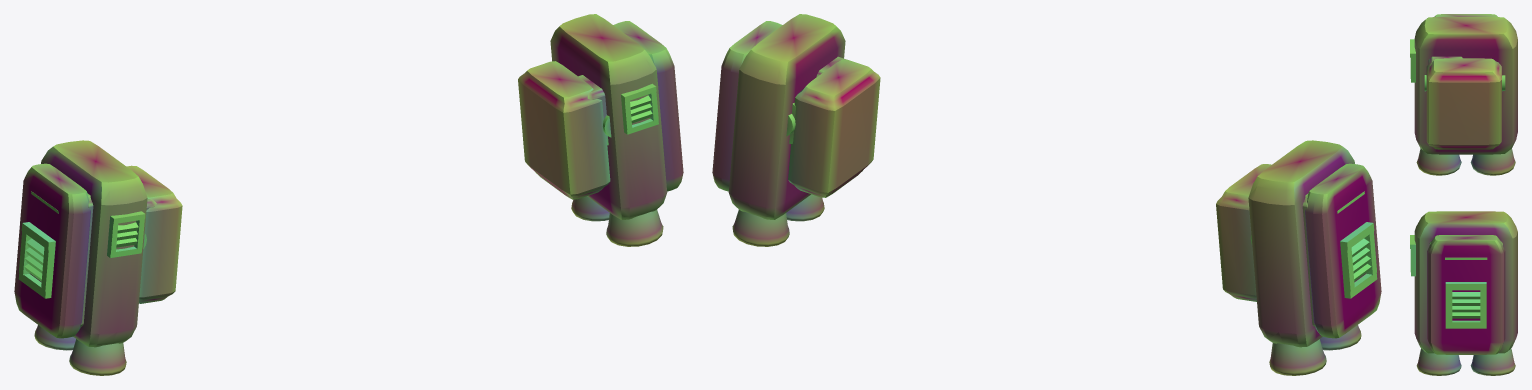
The model's file is llm_gen_leg_thrusters_092_02dea1.glb.
3 renders of one model, left to right at view 1: azimuth 30°, elevation 25°; view 2: azimuth 150°, elevation 25°; view 3: azimuth 270°, elevation 25°, orthographic. The views are drawn at different scales.
Visible parts, largest first — view 1: greave_pylon_0_adapter_dark_r, greave_pylon_0_adapter_dark_l, adapter_calf_clamp_r, lateral_binder_shroud_2_cobalt_anodized_l, adapter_calf_clamp_l, lateral_binder_shroud_2_cobalt_anodized_r, ankle_vector_bell_b_7_vernier_bell_vernier_l, adapter_sub_binder_side_vent_3_dark_l, ankle_vector_bell_b_7_vernier_bell_vernier_r, adapter_sub_greave_intake_grille_5_dark_l, adapter_sub_greave_intake_grille_5_dark_r, ankle_vector_bell_a_6_vernier_bell_vernier_r (+2 smaller); view 2: greave_pylon_0_adapter_dark_r, greave_pylon_0_adapter_dark_l, adapter_calf_clamp_r, lateral_binder_shroud_2_cobalt_anodized_l, adapter_calf_clamp_l, lateral_binder_shroud_2_cobalt_anodized_r, ankle_vector_bell_a_6_vernier_bell_vernier_l, adapter_sub_binder_side_vent_3_dark_l, ankle_vector_bell_a_6_vernier_bell_vernier_r, ankle_vector_bell_b_7_vernier_bell_vernier_r, binder_side_vent_3_gold_l, ankle_vector_bell_b_7_vernier_bell_vernier_l; view 3: lateral_binder_shroud_2_cobalt_anodized_r, greave_pylon_0_adapter_dark_l, adapter_calf_clamp_l, greave_pylon_0_adapter_dark_r, adapter_sub_binder_side_vent_3_dark_r, ankle_vector_bell_a_6_vernier_bell_vernier_r, ankle_vector_bell_b_7_vernier_bell_vernier_r, ankle_vector_bell_b_7_vernier_bell_vernier_l, ankle_vector_bell_a_6_vernier_bell_vernier_l, binder_side_vent_3_gold_r, adapter_sub_greave_intake_grille_5_dark_l, adapter_sub_greave_intake_grille_5_dark_r (+4 smaller).
Part boxes in pixels (x1,y1,x2,y2): greave_pylon_0_adapter_dark_r: (550,14,667,219); greave_pylon_0_adapter_dark_l: (41,140,147,347); adapter_calf_clamp_r: (518,61,610,199); lateral_binder_shroud_2_cobalt_anodized_l: (14,163,90,338); adapter_calf_clamp_l: (126,165,182,303); lateral_binder_shroud_2_cobalt_anodized_r: (613,21,683,191); ankle_vector_bell_b_7_vernier_bell_vernier_l: (69,339,126,375); adapter_sub_binder_side_vent_3_dark_l: (18,222,55,298); ankle_vector_bell_b_7_vernier_bell_vernier_r: (606,209,663,246); adapter_sub_greave_intake_grille_5_dark_l: (107,211,145,257); adapter_sub_greave_intake_grille_5_dark_r: (621,83,658,134); ankle_vector_bell_a_6_vernier_bell_vernier_r: (571,196,609,221); greave_pylon_0_adapter_dark_r: (728,14,845,219); greave_pylon_0_adapter_dark_l: (1248,140,1354,347); adapter_calf_clamp_r: (788,59,880,197); lateral_binder_shroud_2_cobalt_anodized_l: (1305,163,1381,338); adapter_calf_clamp_l: (1216,164,1271,301); lateral_binder_shroud_2_cobalt_anodized_r: (712,21,782,191); ankle_vector_bell_a_6_vernier_bell_vernier_l: (1269,339,1326,375); adapter_sub_binder_side_vent_3_dark_l: (1340,222,1377,298); ankle_vector_bell_a_6_vernier_bell_vernier_r: (732,209,789,246); ankle_vector_bell_b_7_vernier_bell_vernier_r: (786,194,824,221); binder_side_vent_3_gold_l: (1351,238,1371,281); ankle_vector_bell_b_7_vernier_bell_vernier_l: (1320,325,1361,350); lateral_binder_shroud_2_cobalt_anodized_r: (1427,235,1505,354); greave_pylon_0_adapter_dark_l: (1414,17,1517,154); adapter_calf_clamp_l: (1426,58,1501,149); greave_pylon_0_adapter_dark_r: (1414,211,1517,353); adapter_sub_binder_side_vent_3_dark_r: (1445,282,1486,328); ankle_vector_bell_a_6_vernier_bell_vernier_r: (1470,348,1515,375); ankle_vector_bell_b_7_vernier_bell_vernier_r: (1416,348,1461,375); ankle_vector_bell_b_7_vernier_bell_vernier_l: (1416,148,1461,175); ankle_vector_bell_a_6_vernier_bell_vernier_l: (1470,148,1515,175); binder_side_vent_3_gold_r: (1452,292,1480,318); adapter_sub_greave_intake_grille_5_dark_l: (1410,39,1415,82); adapter_sub_greave_intake_grille_5_dark_r: (1410,235,1415,276).
Size of the model in its own units: 82.98 by 23.9 by 15.73.
